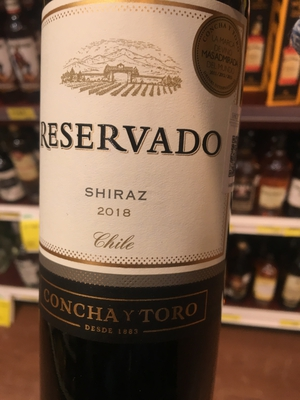reservado shiraz: (36, 5, 248, 400)
